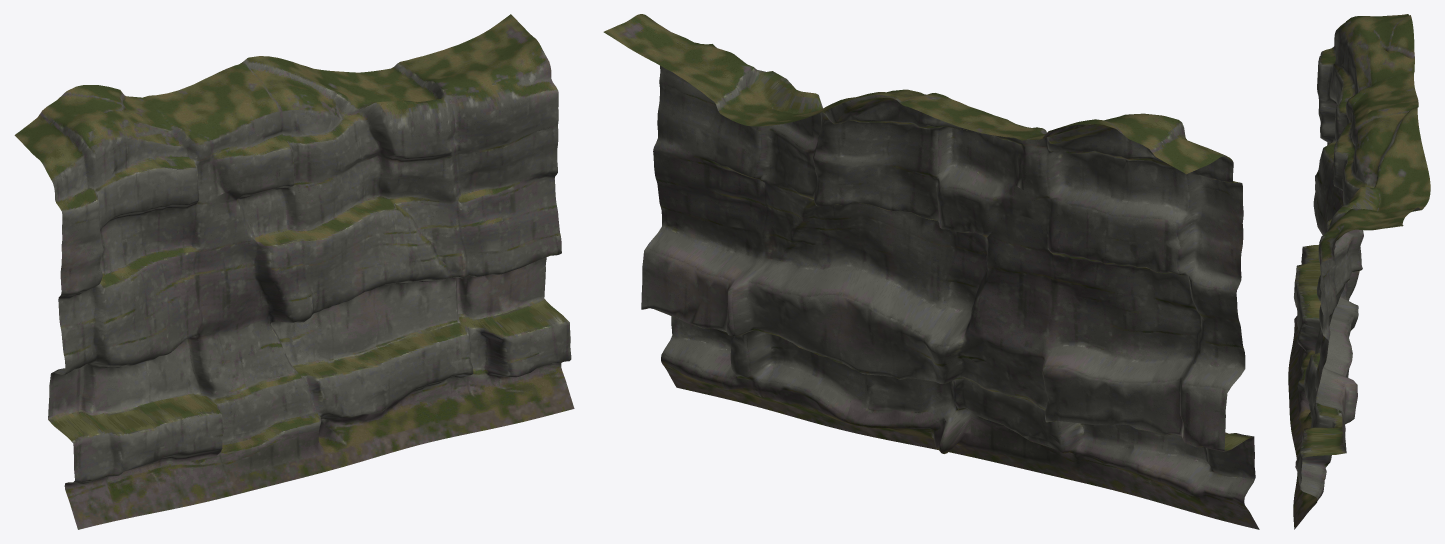
The model's file is cliff-face-lod1.glb.
3 renders of one model, left to right at view 1: azimuth 30°, elevation 25°; view 2: azimuth 150°, elevation 25°; view 3: azimuth 270°, elevation 25°, orthographic. The views are drawn at different scales.
Parts seen in each view (by area): view 1: cliff-face; view 2: cliff-face; view 3: cliff-face.
Boxes of the visible parts, x1,y1,x2,y2 form: cliff-face: (14, 14, 574, 529); cliff-face: (603, 14, 1259, 529); cliff-face: (1288, 14, 1430, 529).
Bounding box in the file's own units: 36.23 × 26.2 × 10.26.
1 material, 1 textured.
